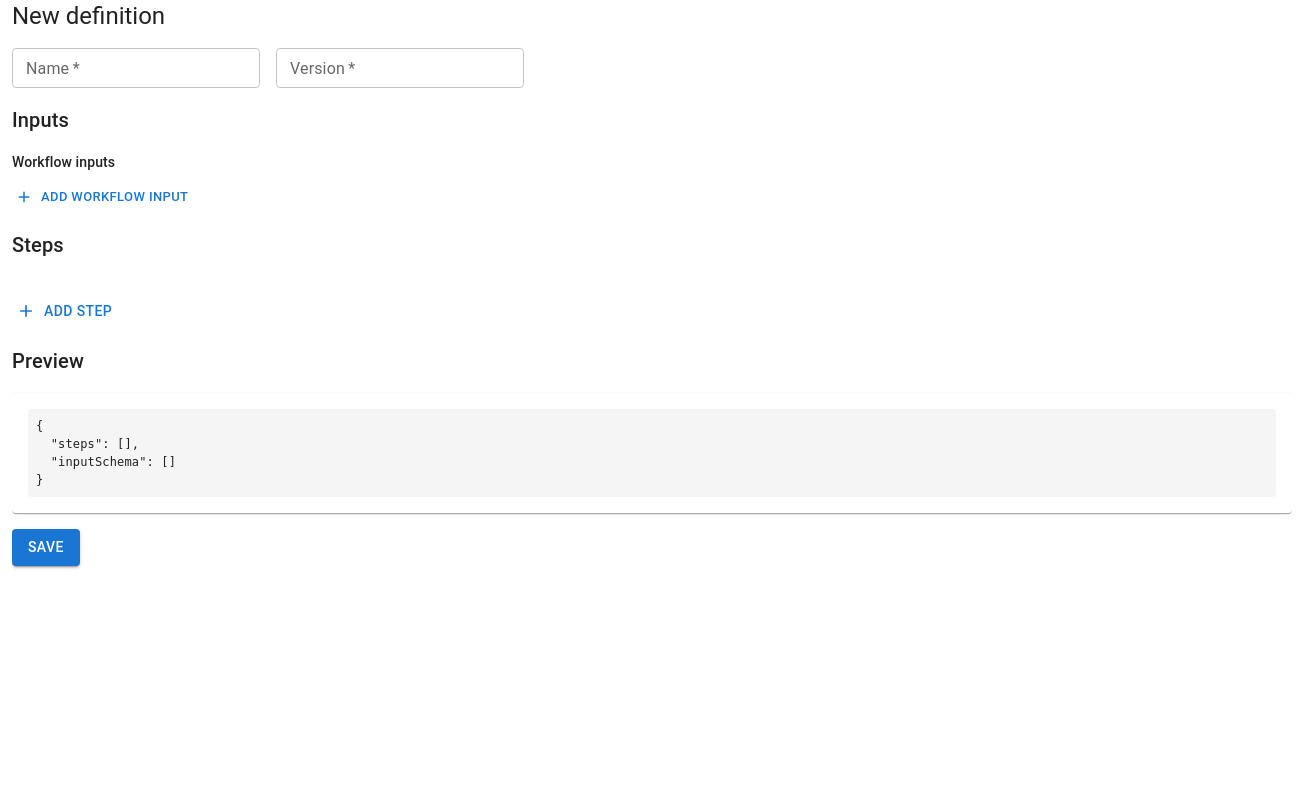
Test: DefinitionEditor › blocks Save and shows an inline error when a workflow input has no name
This screenshot has width=1304, height=800.
Type "wf" into the field labelled "Name *".
click(136, 68); type("wf")  # box x1=12 y1=48 x2=260 y2=88
Type "1.0.0" into the field labelled "Version *".
click(400, 68); type("1.0.0")  # box x1=276 y1=48 x2=524 y2=88
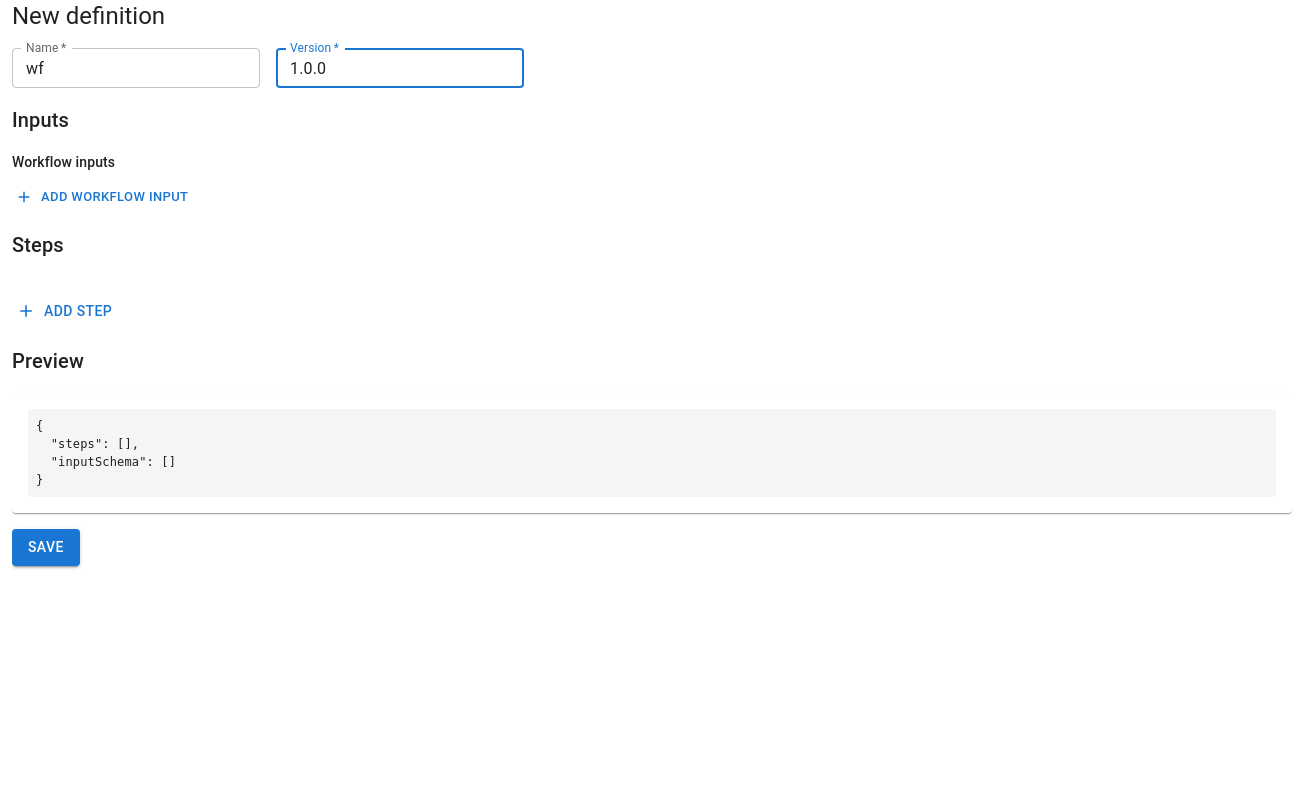
Click the button "Add step".
click(66, 311)  # box x1=12 y1=293 x2=120 y2=329
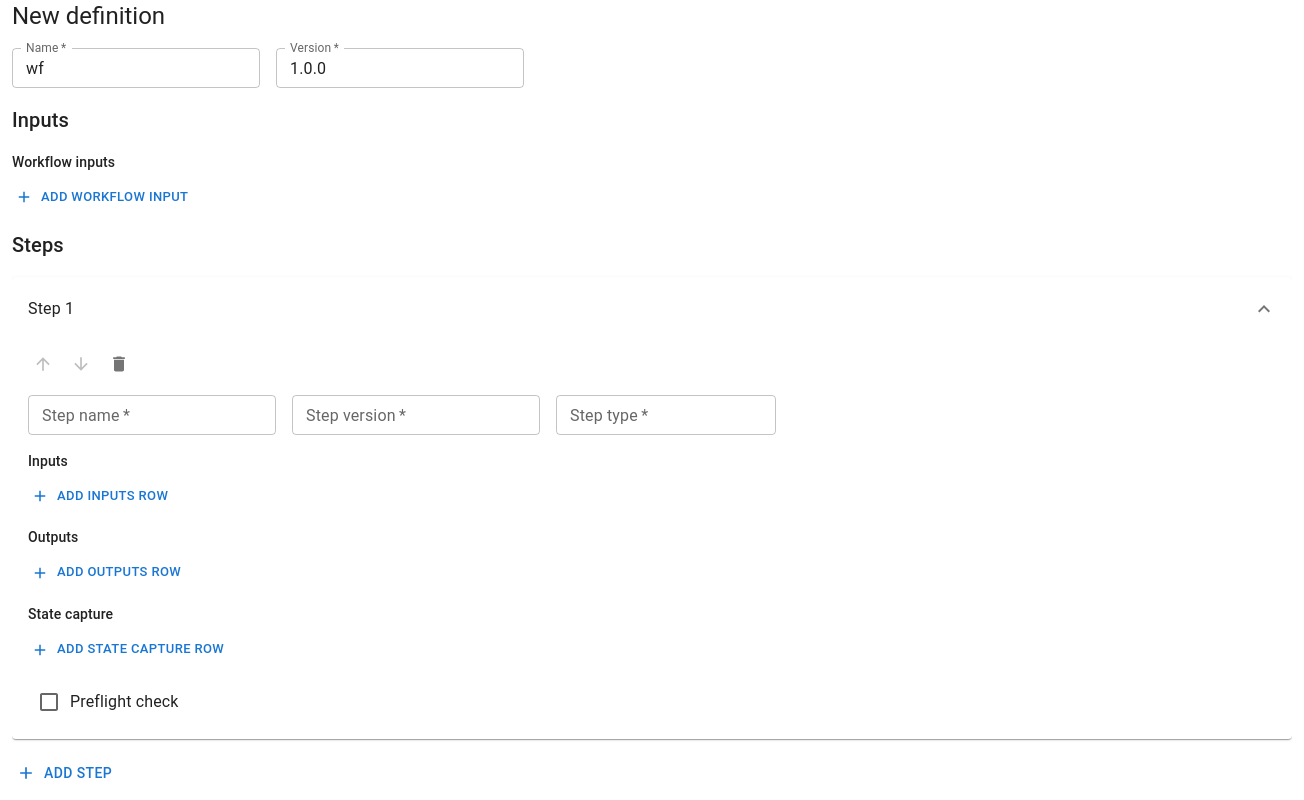
Type "Only" into the field labelled "Step name *".
click(152, 415); type("Only")  # box x1=28 y1=395 x2=276 y2=435
Type "1.0.0" into the field labelled "Step version *".
click(416, 415); type("1.0.0")  # box x1=292 y1=395 x2=540 y2=435
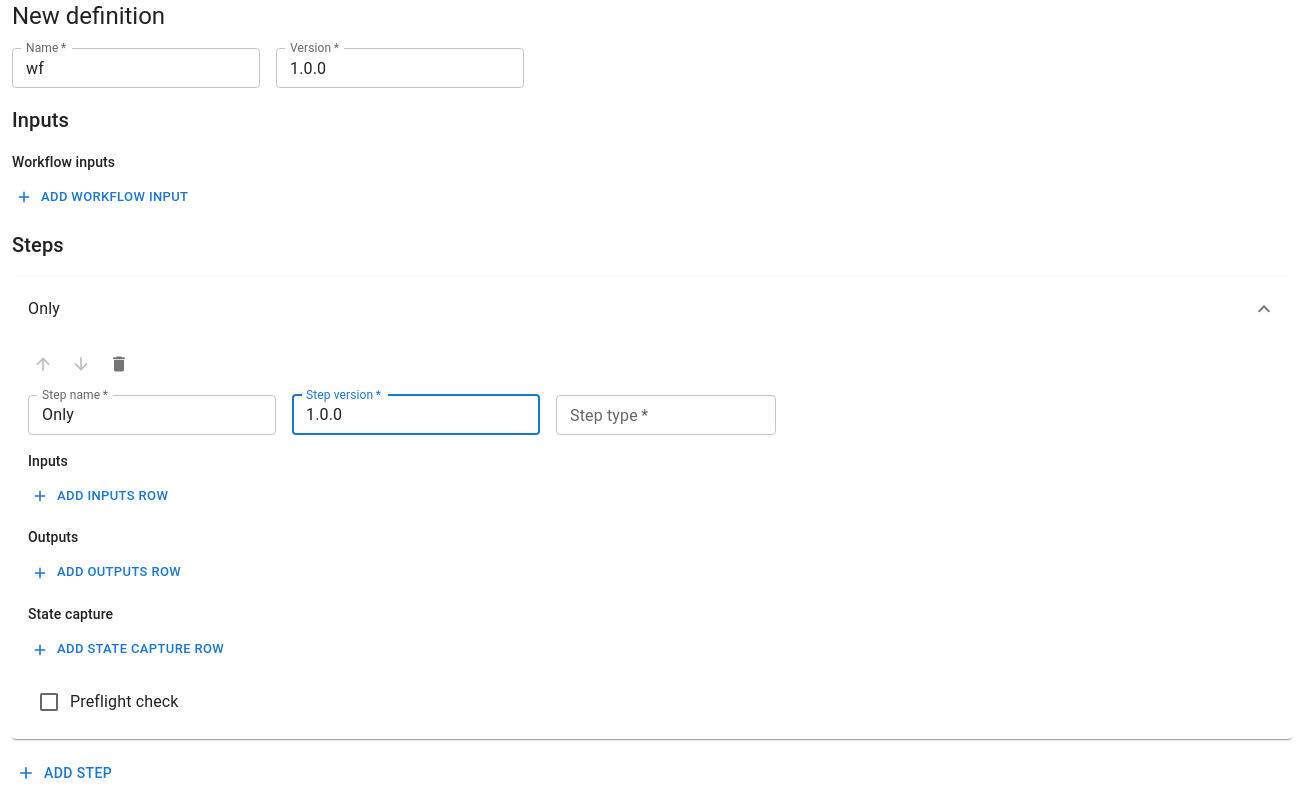
Type "core.noop" into the dropdown labelled "Step type *".
click(664, 415); type("core.noop")  # box x1=562 y1=401 x2=767 y2=429
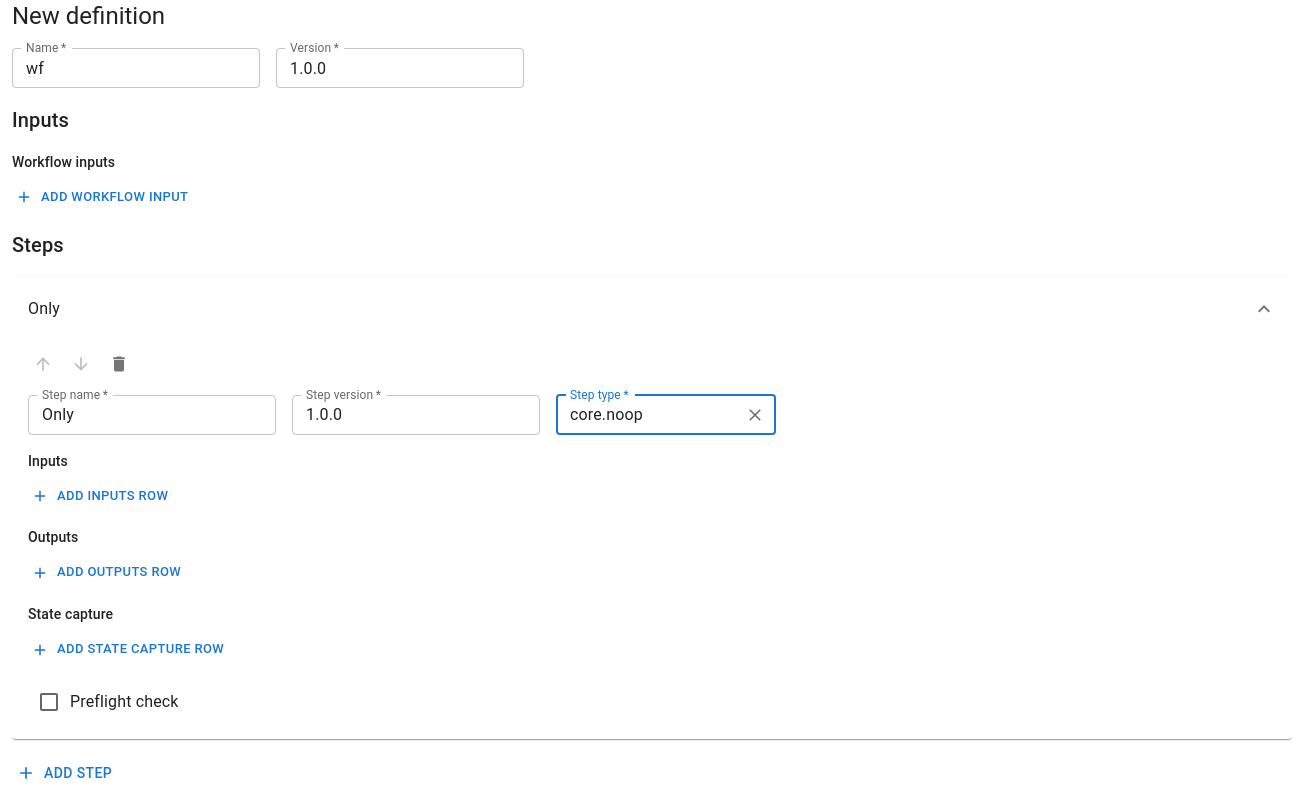
Click the button "Add workflow input".
click(103, 197)  # box x1=12 y1=182 x2=193 y2=213
(page scrolled)
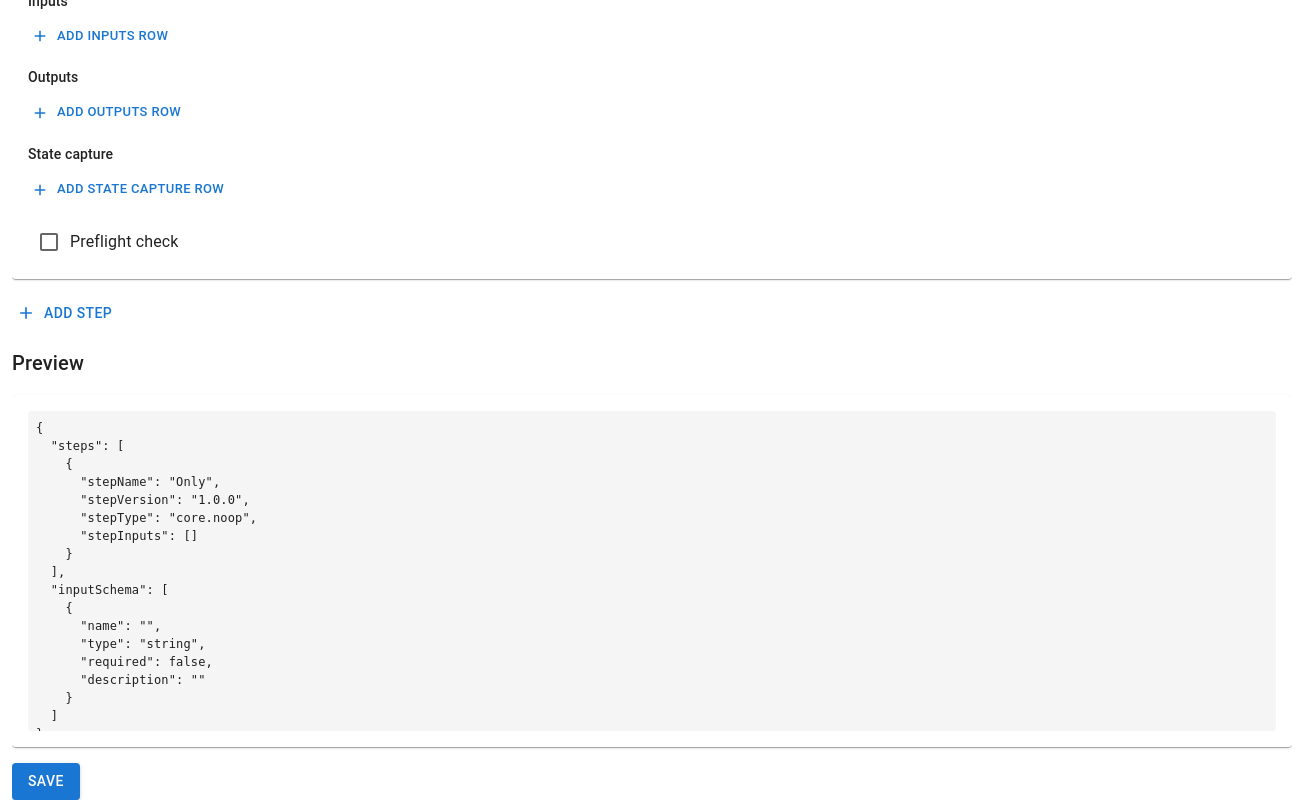
Note: Deliberately leave "Workflow input name 1" blank.
Click the button "Save".
click(46, 782)  # box x1=12 y1=763 x2=80 y2=799
(page scrolled)
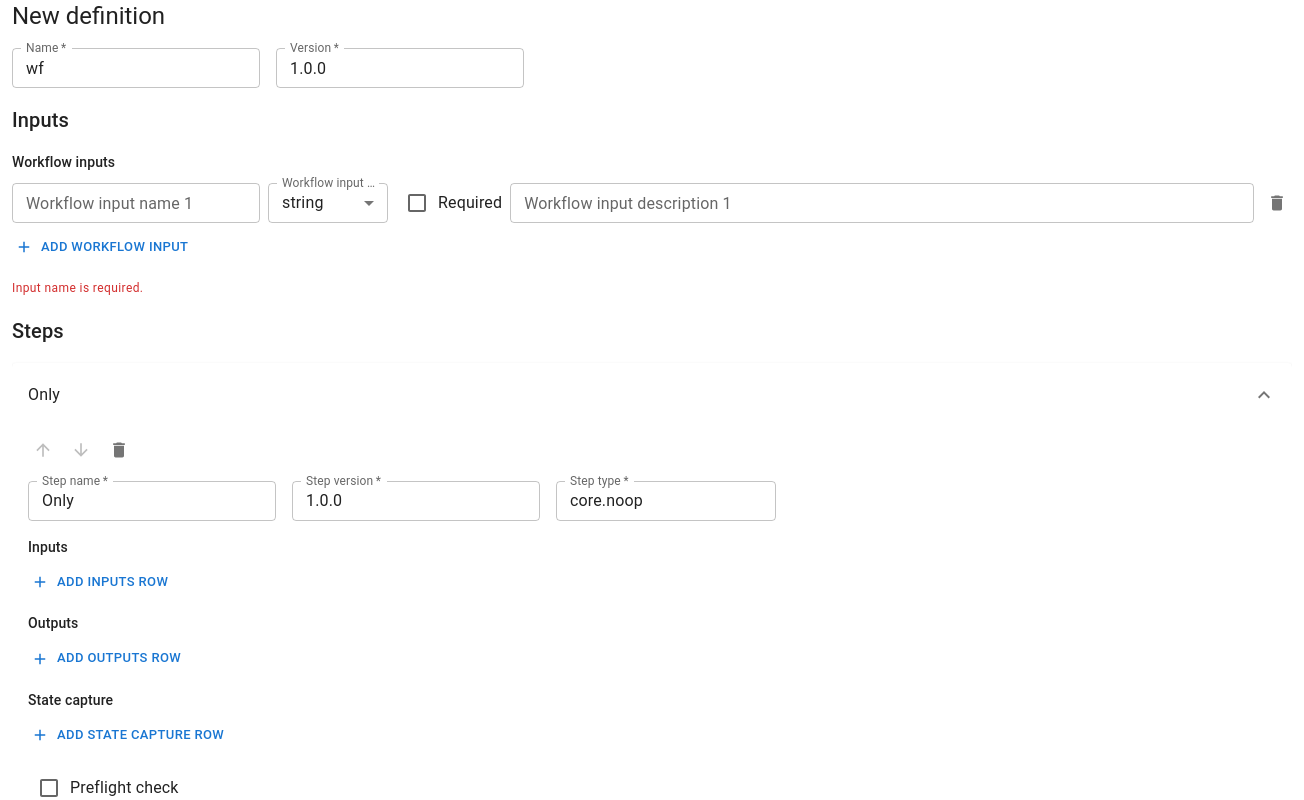
Result: the text "Input name is required." is shown at x1=12 y1=281 x2=143 y2=295
